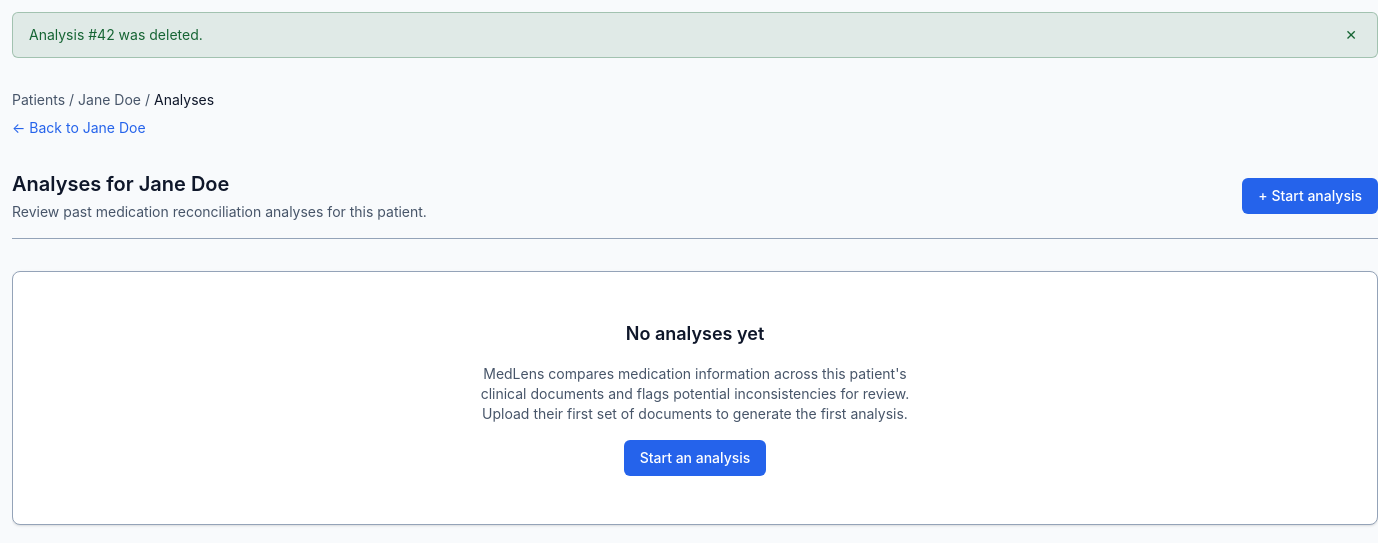
Test: PatientAnalysesPage › dismisses the success notification when its close button is clicked
Expected: the text "Analysis #42 was deleted." is shown, left=29, top=25, right=203, bottom=45
Click the button named "Dismiss notification" at (1351, 35), box left=1341, top=25, right=1361, bottom=45
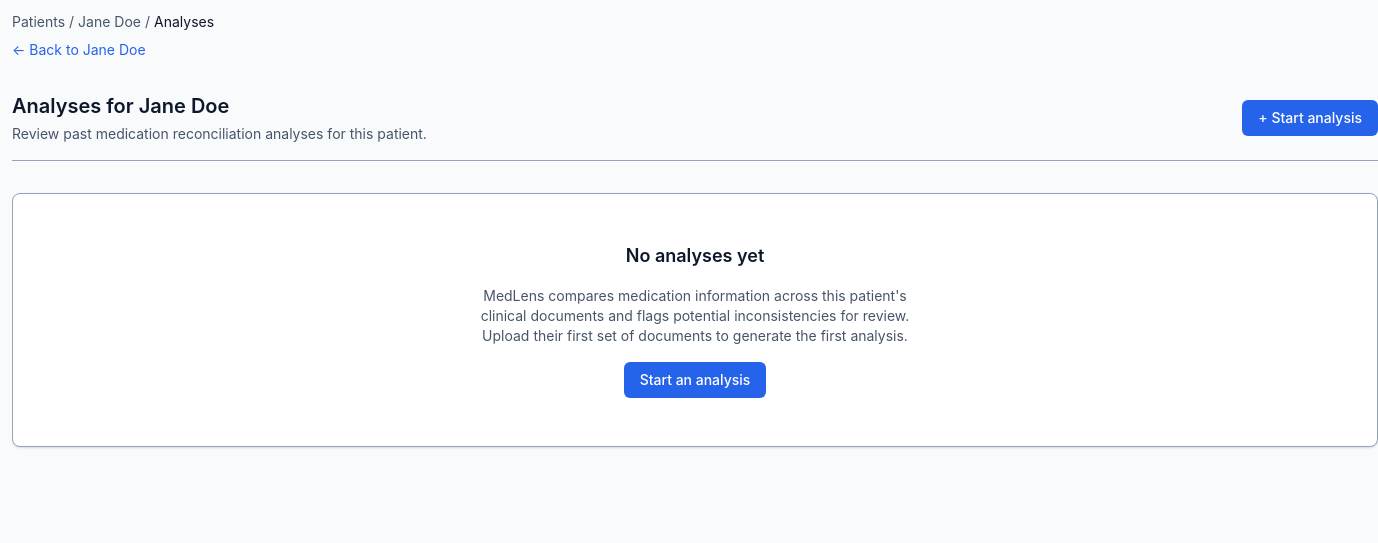
Expected: the text "Analysis #42 was deleted." is gone
